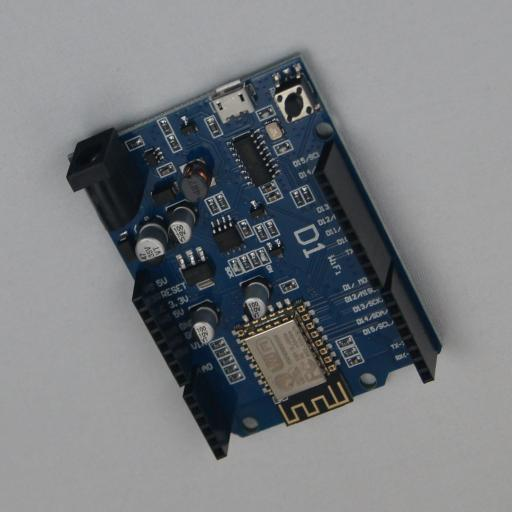Arduino Uno WiFi Shield: (66, 52, 442, 460)
